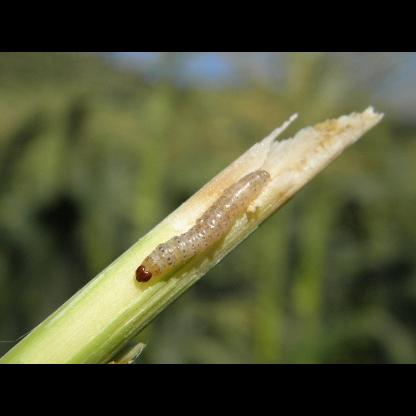Asian Corn Borer Larvae: (130, 166, 274, 288)
